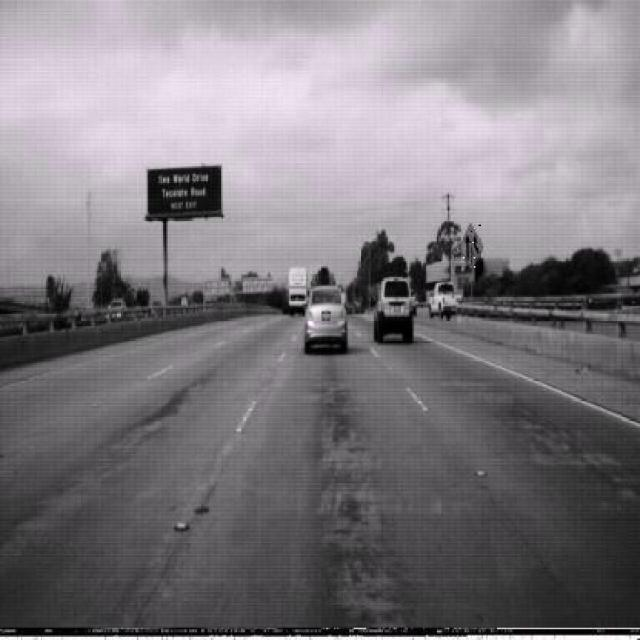addedLane: (458, 222, 484, 271)
